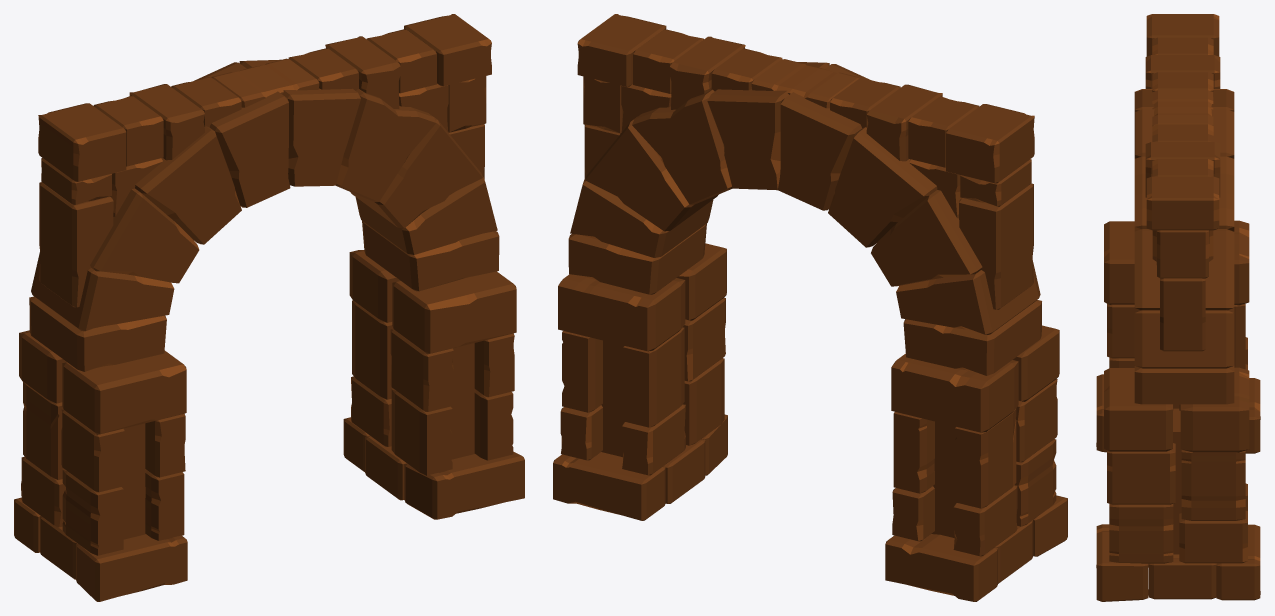
The model's file is arch.fbx.
The picture shows the model from 3 angles, left to right: view 1: azimuth 30°, elevation 25°; view 2: azimuth 150°, elevation 25°; view 3: azimuth 270°, elevation 25°; orthographic projection. The views are drawn at different scales.
Visible parts, largest first — view 1: Arch; view 2: Arch; view 3: Arch.
Boxes of the visible parts, x1=… form: Arch: x1=14, y1=14, x2=524, y2=601; Arch: x1=553, y1=14, x2=1067, y2=601; Arch: x1=1096, y1=14, x2=1260, y2=601.
Bounding box in the file's own units: 408 × 401 × 149.
